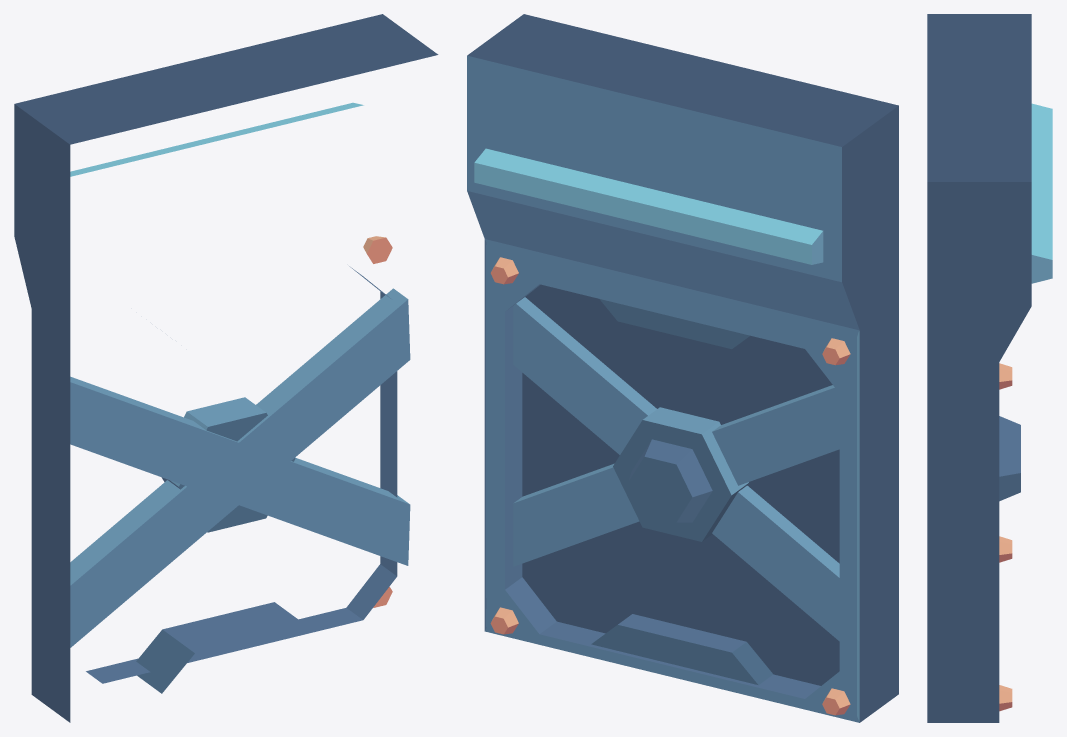
Rendered from wall-a.glb.
3 renders of one model, left to right at view 1: azimuth 30°, elevation 25°; view 2: azimuth 150°, elevation 25°; view 3: azimuth 270°, elevation 25°, orthographic. The views are drawn at different scales.
Visible parts, largest first — view 1: wallSeg-a; view 2: wallSeg-a; view 3: wallSeg-a.
Part boxes in pixels (left/top/right/bottom): wallSeg-a: left=14, top=14, right=438, bottom=722; wallSeg-a: left=467, top=14, right=898, bottom=722; wallSeg-a: left=927, top=14, right=1052, bottom=722.
Size of the model in its own units: 5 by 7.5 by 1.58.
1 material, 1 textured.
